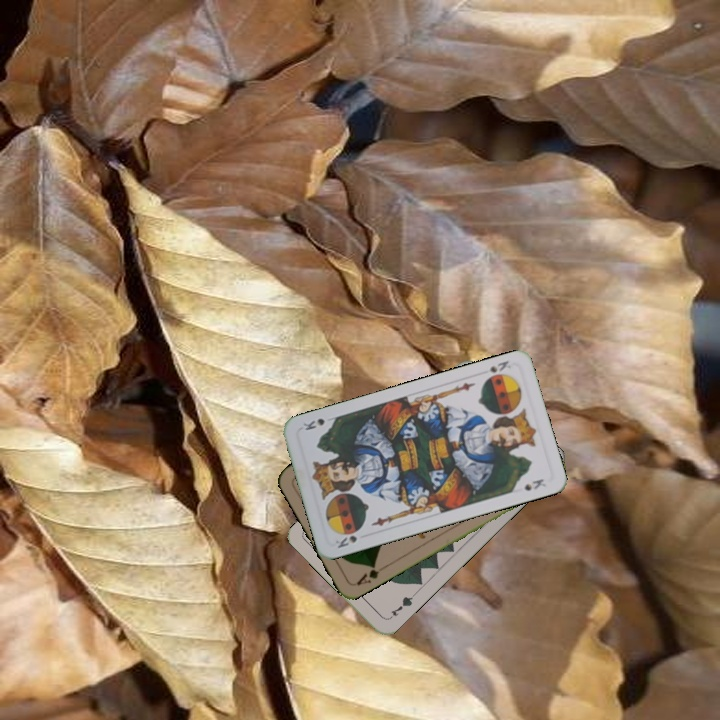G7: (384, 590, 417, 622)
GA: (353, 560, 388, 588)
SK: (331, 531, 360, 551), (485, 356, 513, 375)
